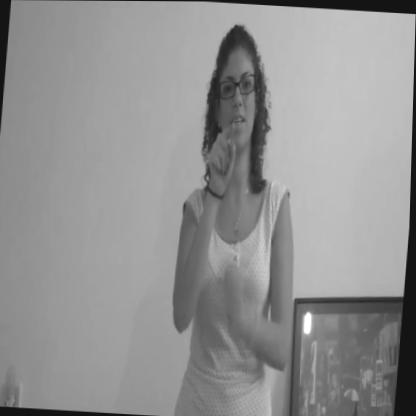NiceToMeetYou: (184, 111, 271, 264)
